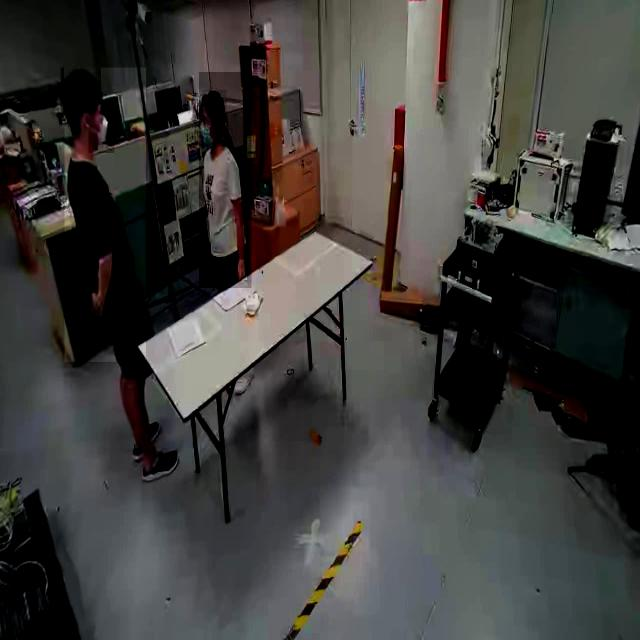face_mask: (88, 100, 115, 153), (194, 109, 226, 147)
hand_noglove: (88, 290, 106, 317), (237, 259, 247, 281)
head_nohelmet: (60, 67, 101, 97), (202, 90, 226, 110)
person: (64, 68, 146, 362), (198, 72, 252, 289)
shoes: (140, 446, 182, 486), (130, 417, 164, 462)
